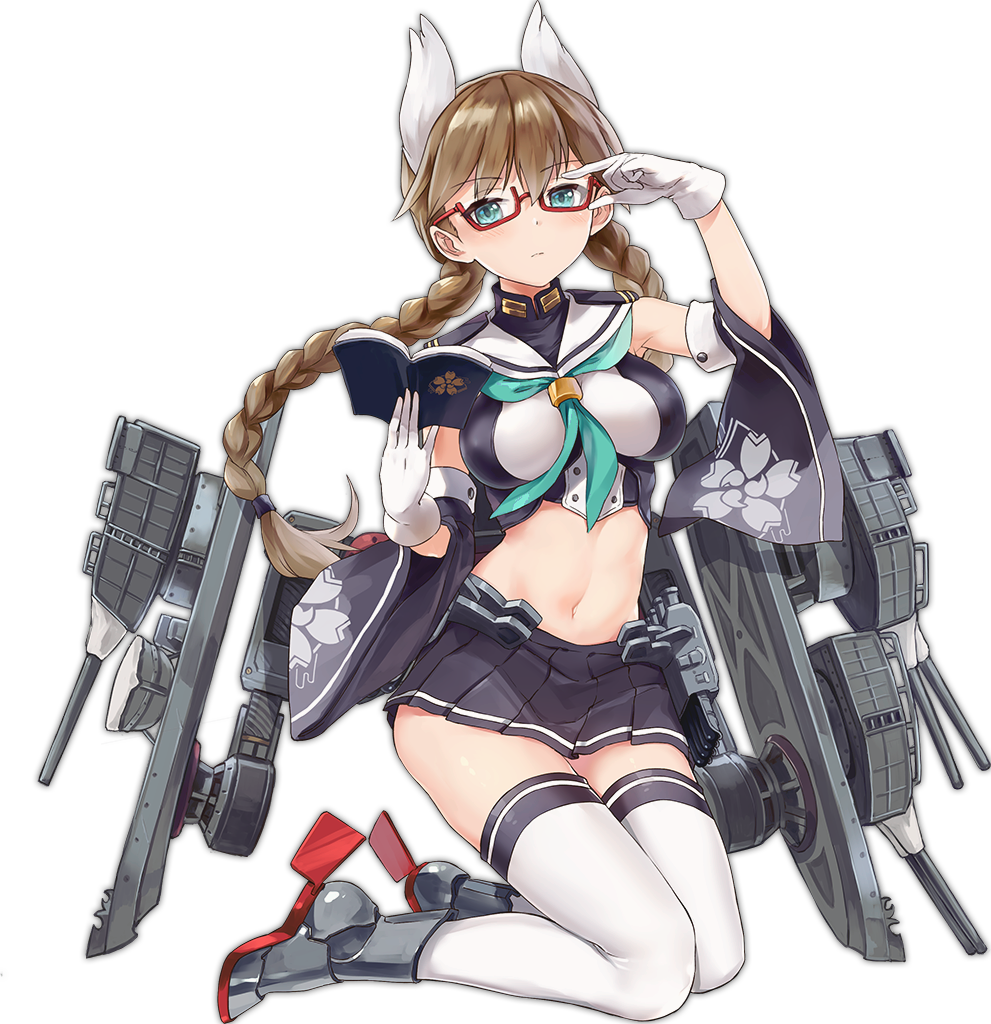person: (267, 1, 755, 1024)
